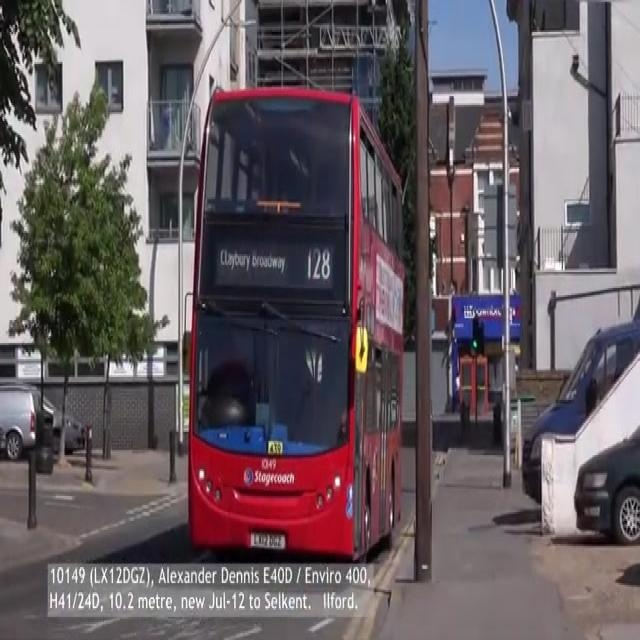Bus: (180, 83, 399, 550)
